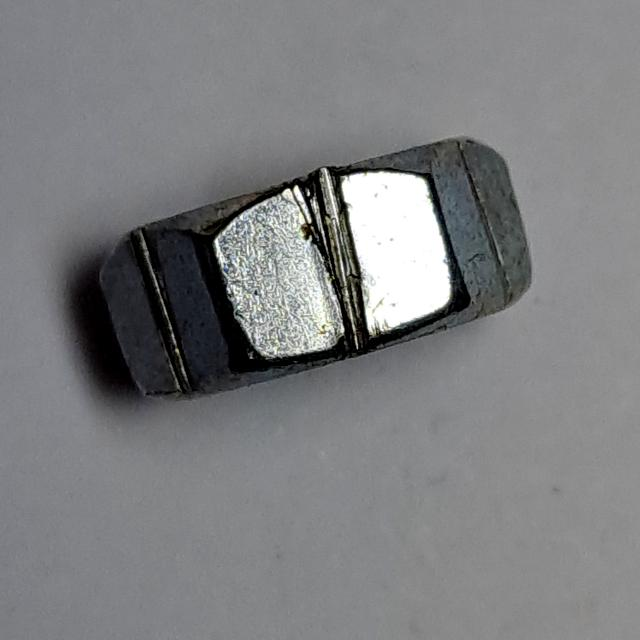Side_Scratches: (94, 124, 539, 421)
